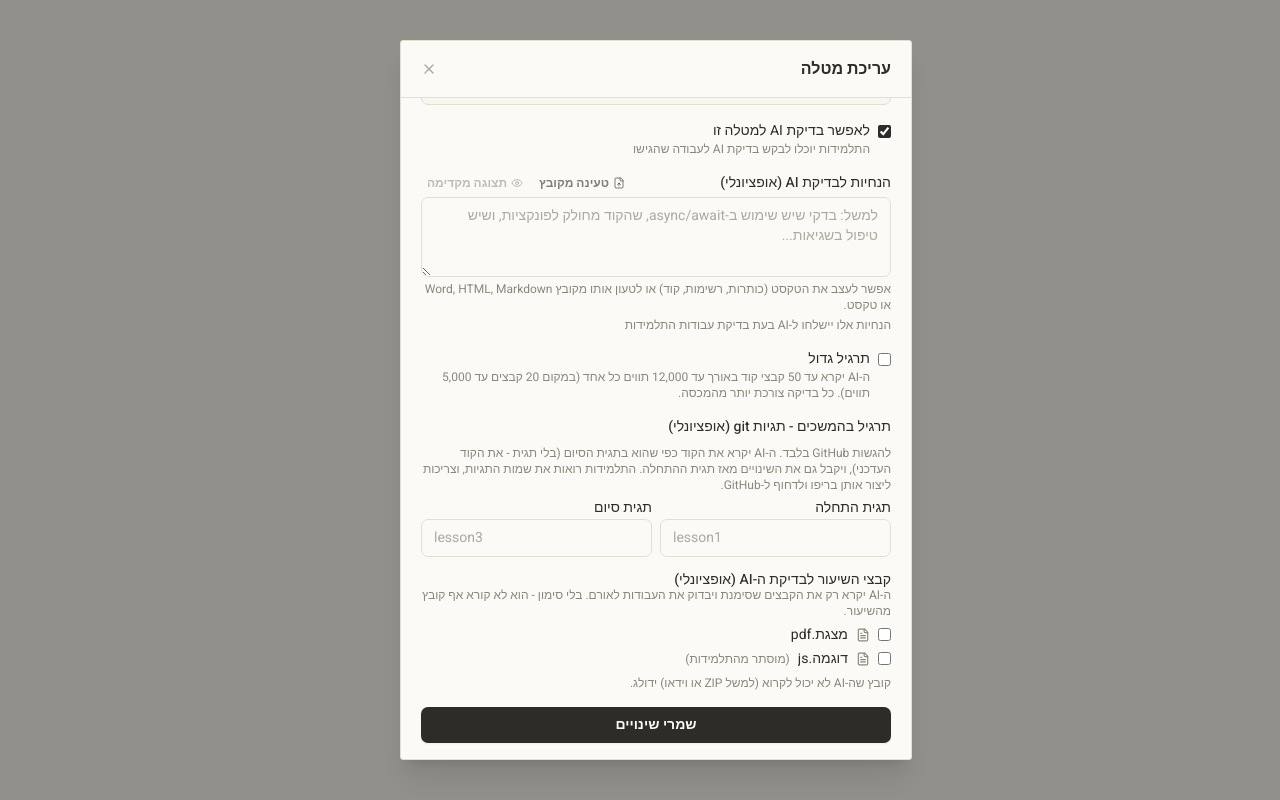
Scenario: AssignmentModal › will not save a tag name GitHub cannot take, or the same tag twice
This screenshot has width=1280, height=800.
(page scrolled)
Type "שיעור 3" into the field labelled "תגית סיום" at (536,538), box [421,519,652,557]
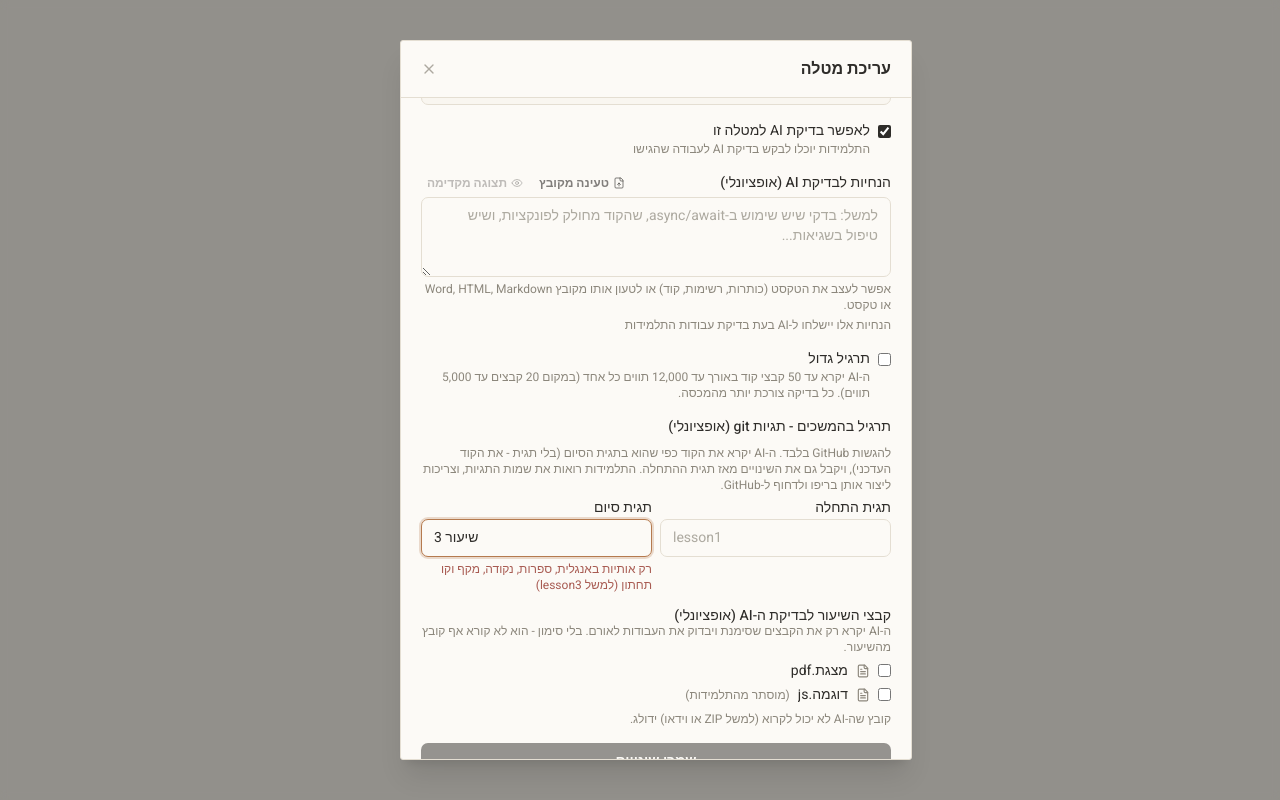
Replace the text in the field labelled "תגית סיום" with "lesson3" at (536,538), box [421,519,652,557]
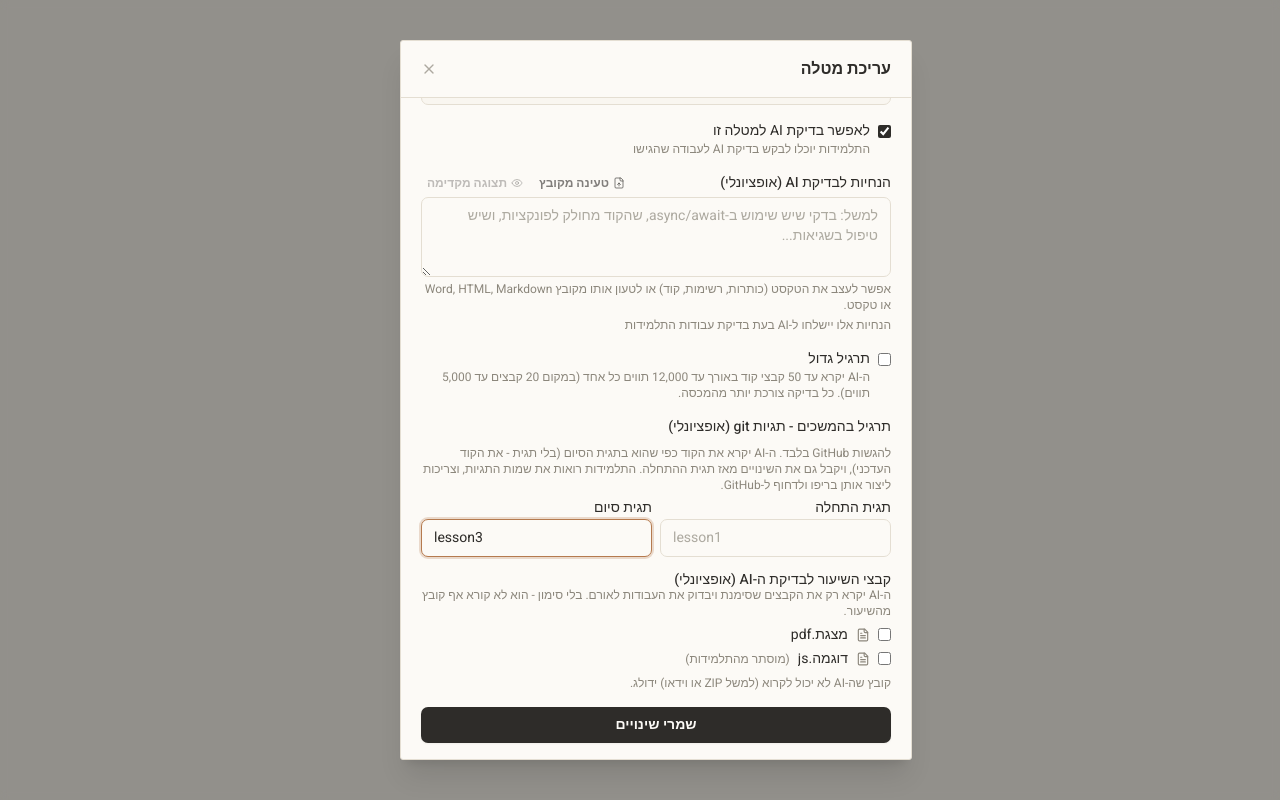
Now the button "שמרי שינויים" is enabled, box [421,707,891,743]
Type "lesson3" into the field labelled "תגית התחלה" at (776,538), box [660,519,891,557]
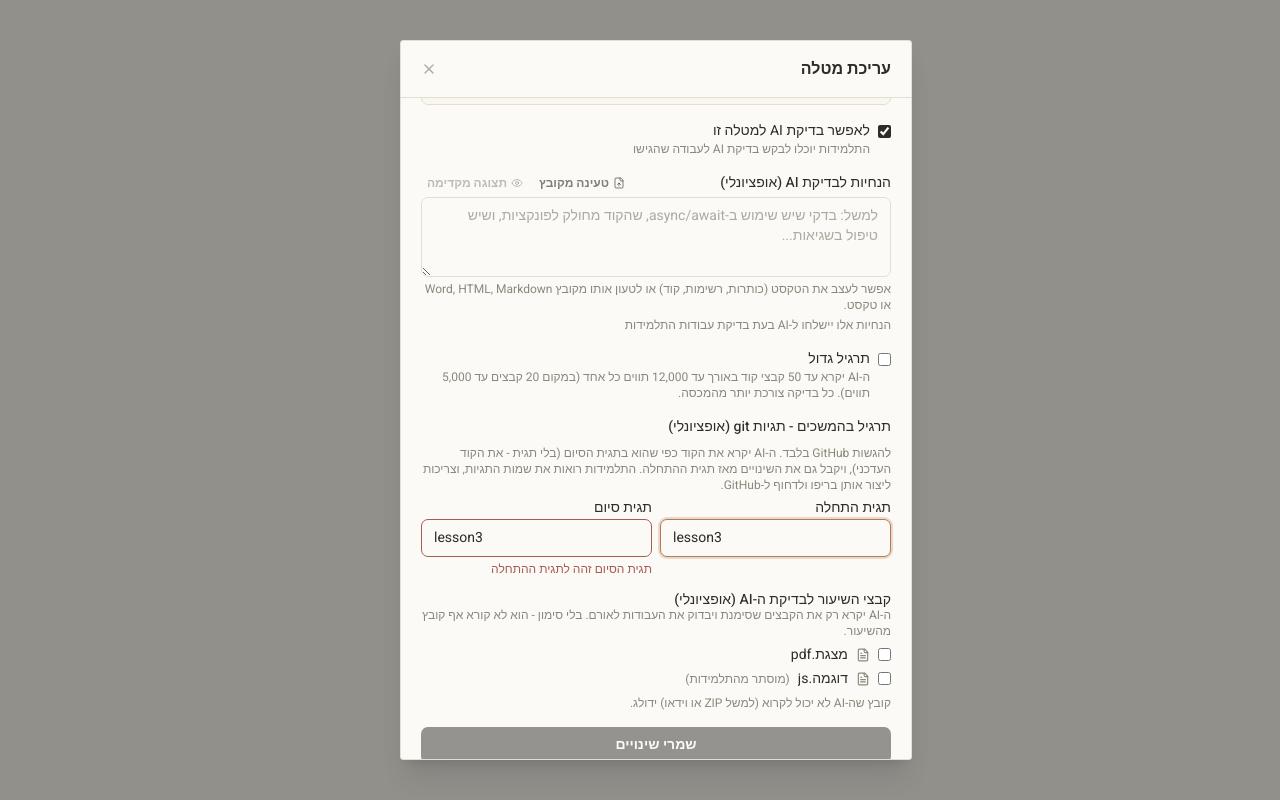
Now the text "תגית הסיום זהה לתגית ההתחלה" is shown, box [491,560,652,578]
Now the button "שמרי שינויים" is disabled, box [421,727,891,759]
